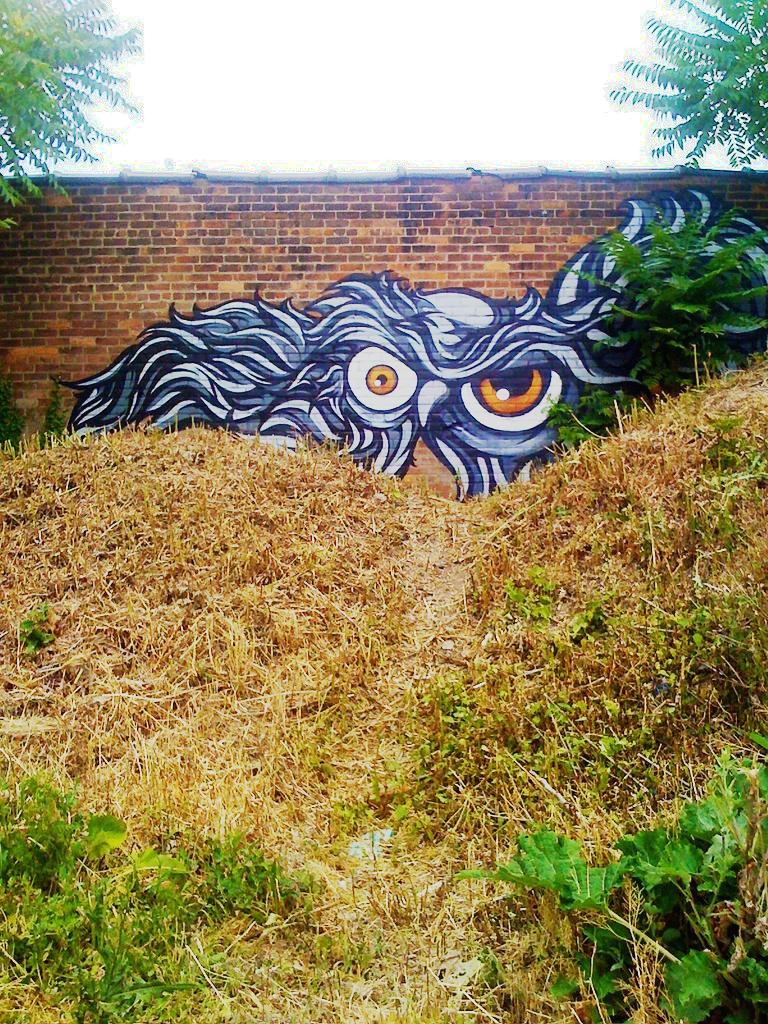Owl: (66, 188, 725, 496)
